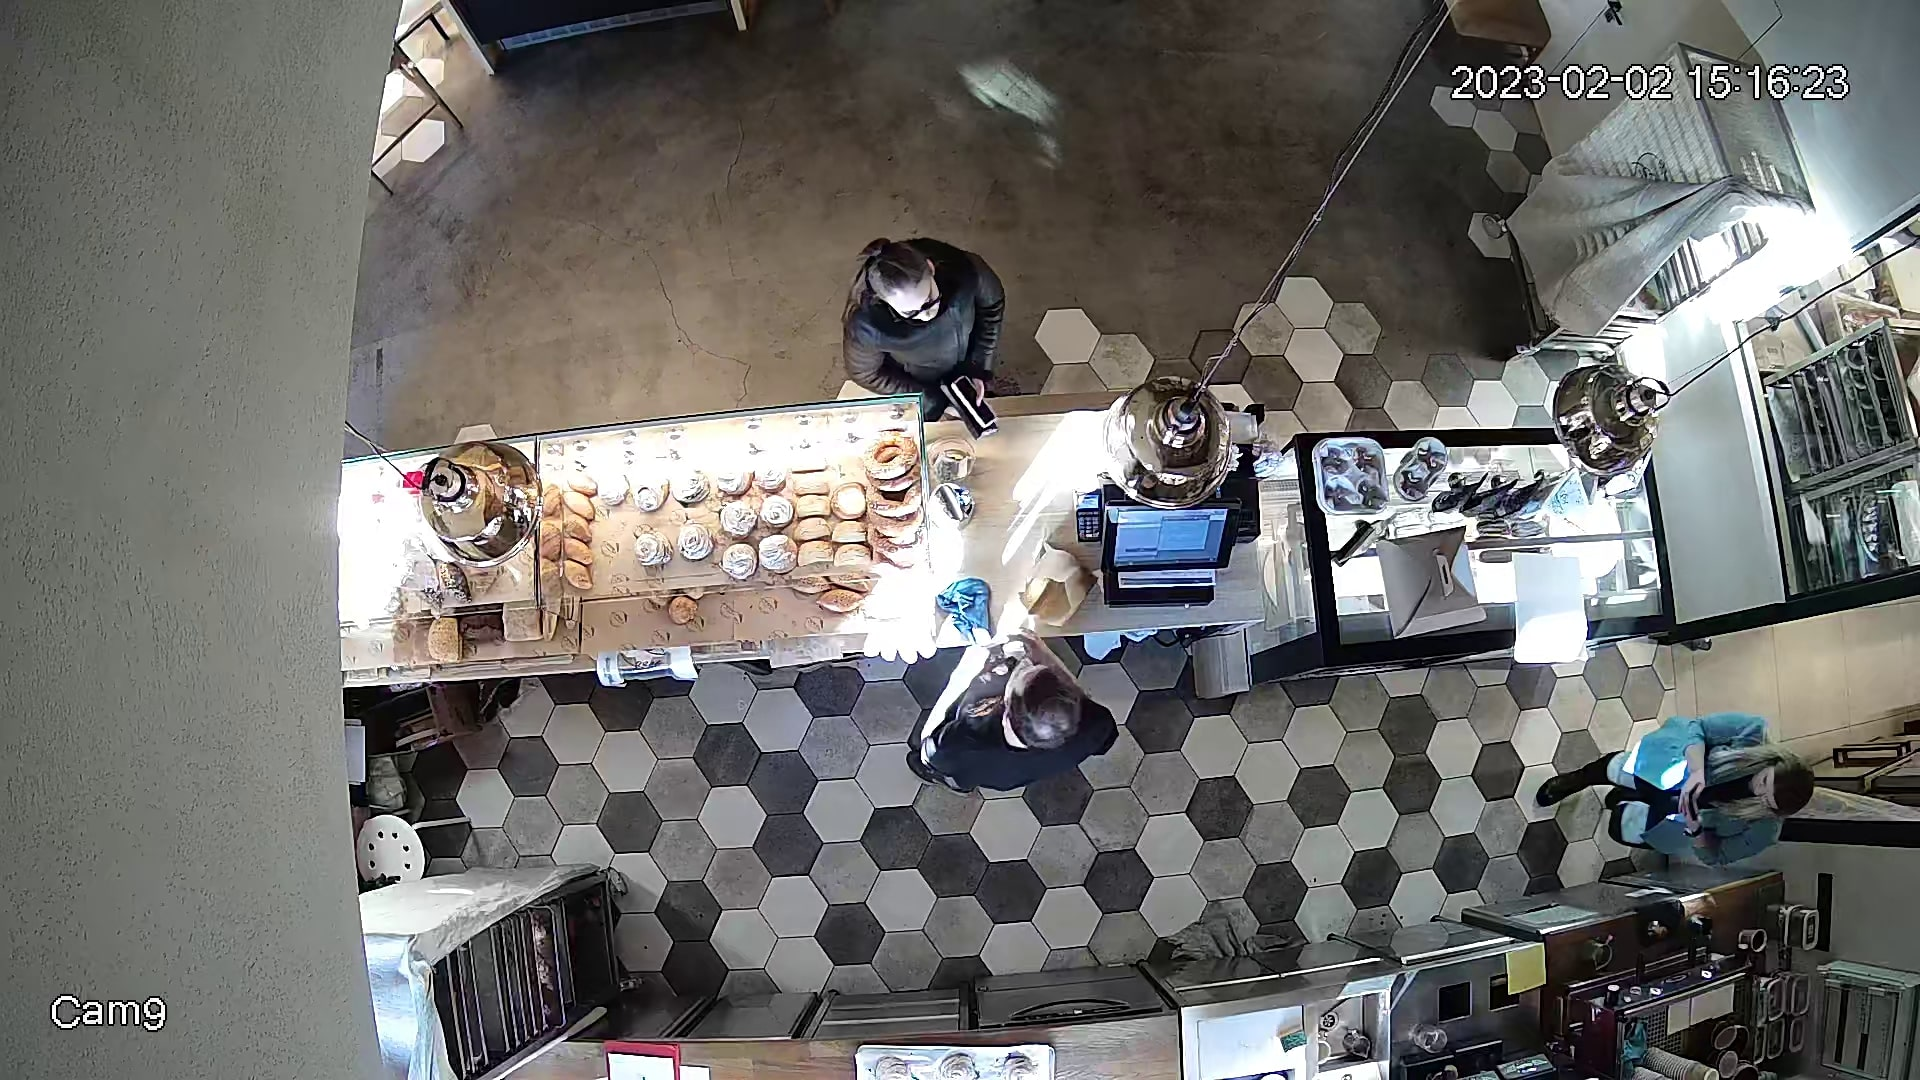barcounter: (349, 447, 1676, 704)
pack: (1004, 540, 1102, 628)
person: (808, 216, 1016, 437), (904, 640, 1136, 798), (1551, 709, 1804, 851)
